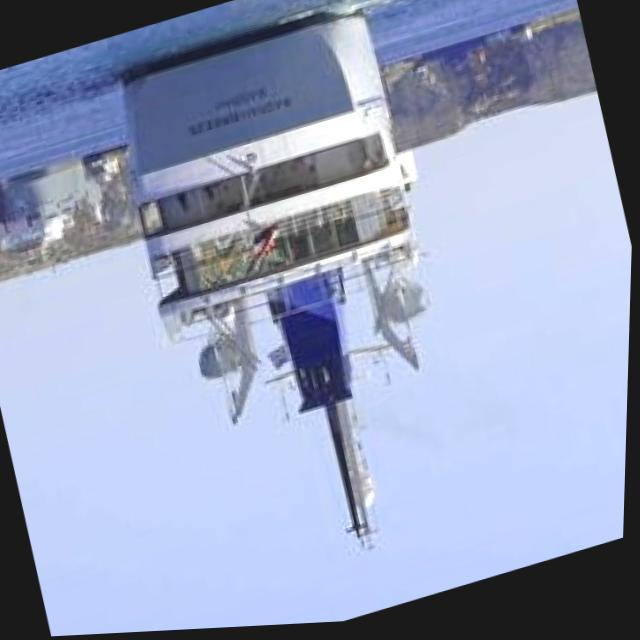ship2: (118, 11, 431, 551)
